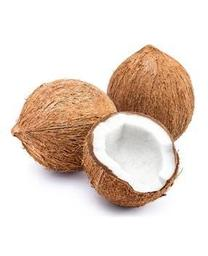coconut: (80, 110, 181, 210), (15, 78, 118, 175), (106, 44, 194, 141)
